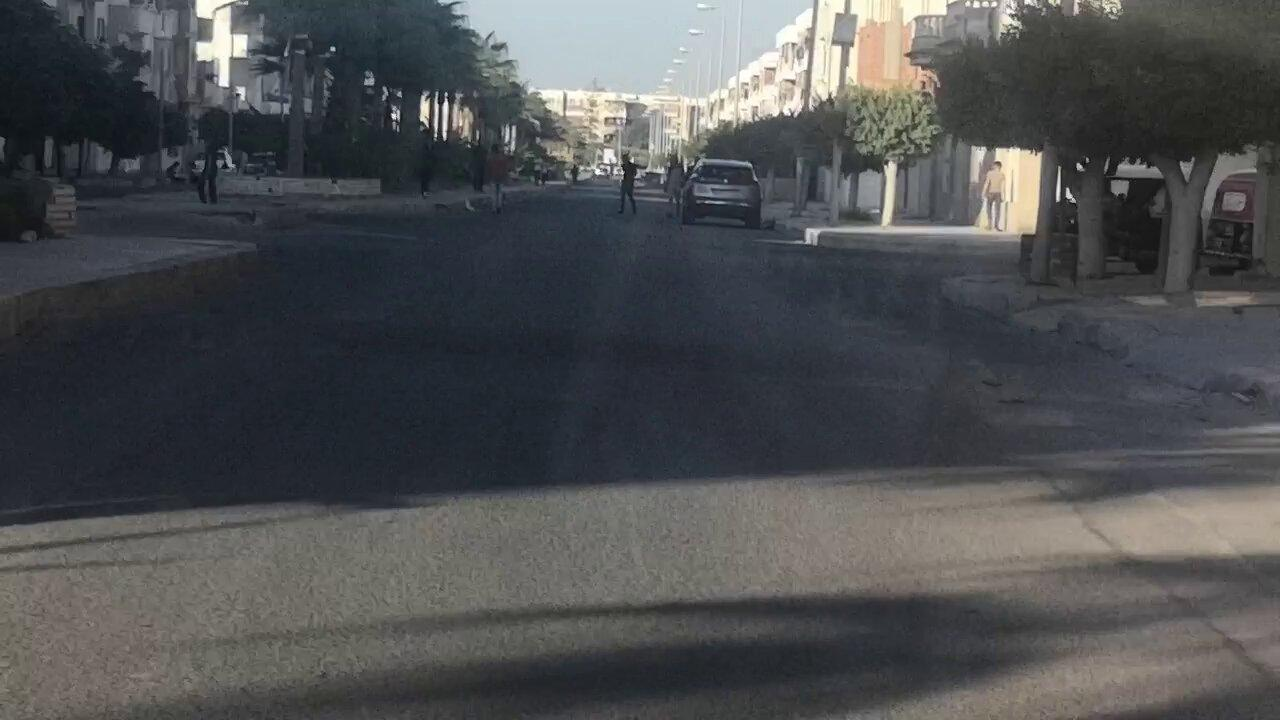Bump: (50, 303, 1197, 404)
